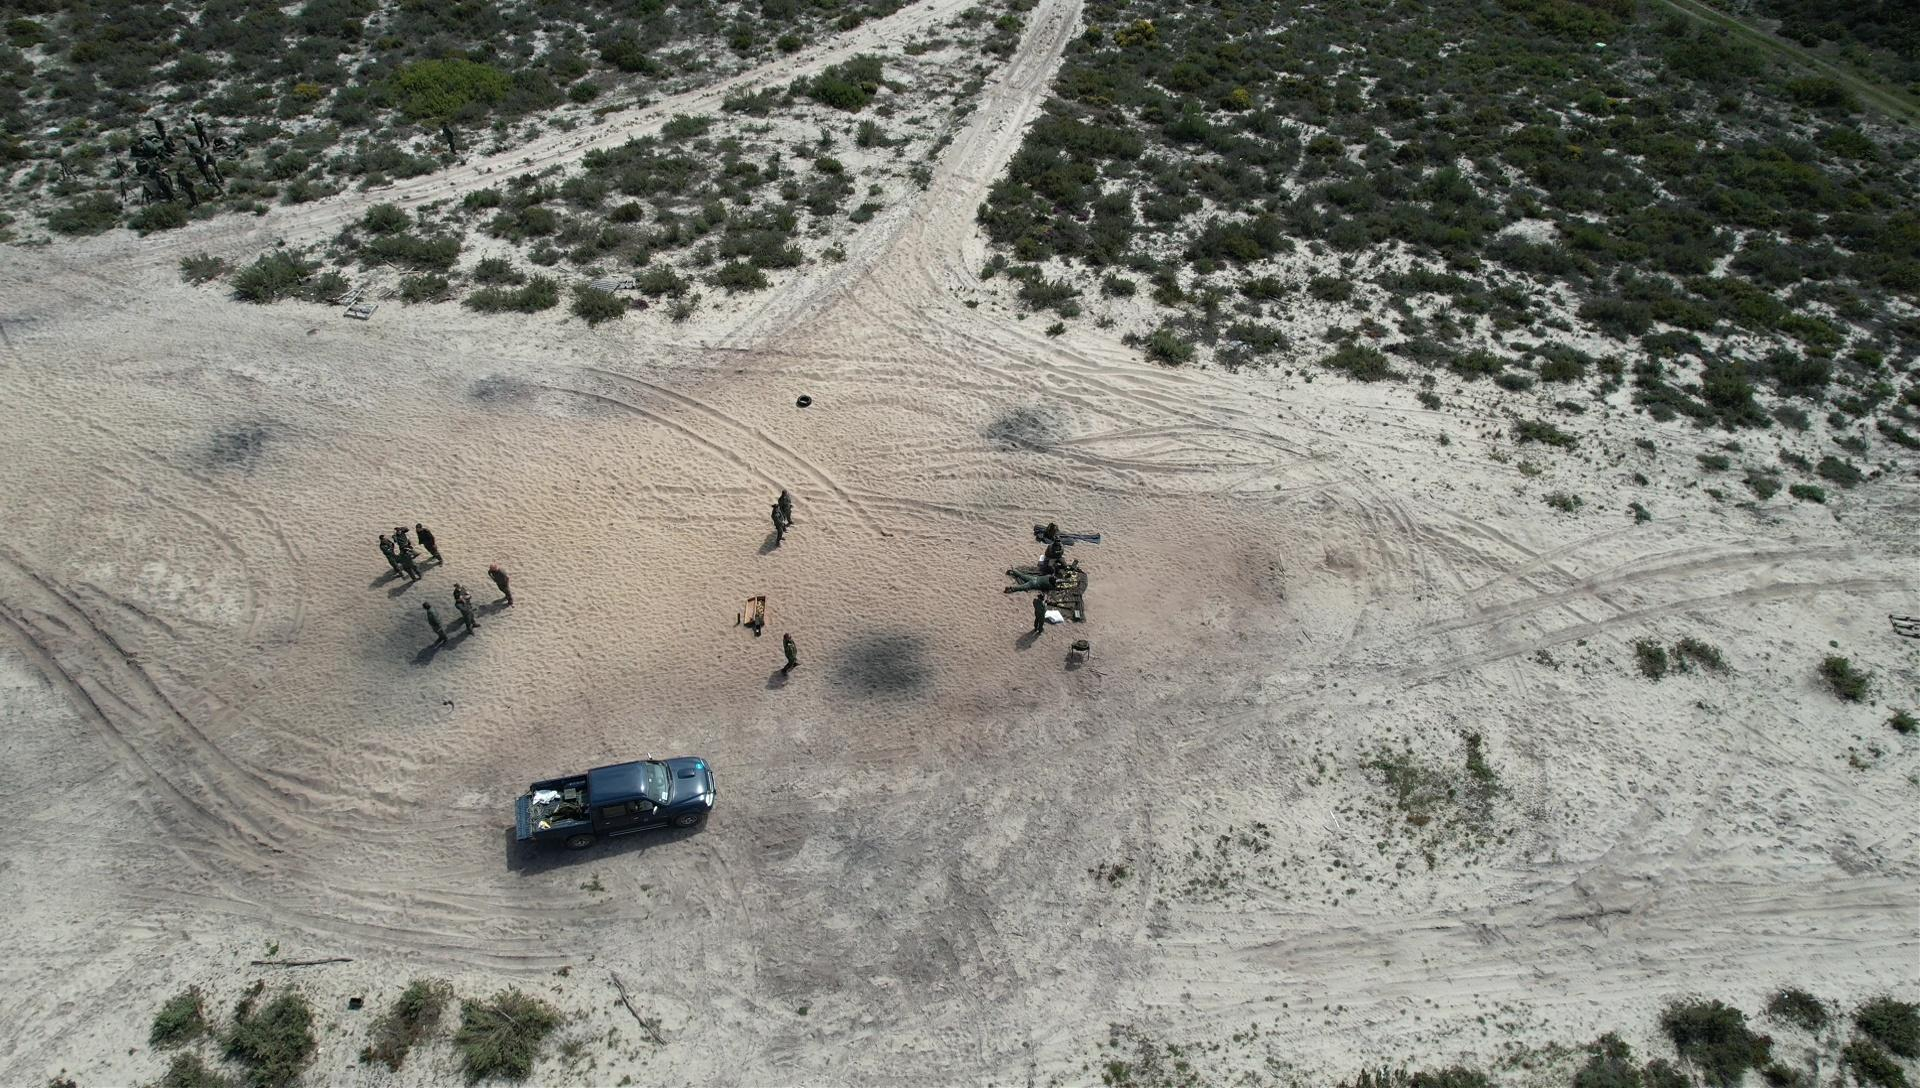Soldier: (1011, 560, 1073, 597), (413, 524, 448, 579), (775, 628, 804, 688), (484, 564, 518, 612), (419, 607, 448, 655), (392, 543, 422, 589), (386, 537, 415, 583), (1031, 596, 1056, 642), (1040, 545, 1069, 582), (148, 169, 177, 206), (771, 493, 791, 545), (439, 121, 464, 161), (455, 595, 477, 638), (175, 175, 198, 211), (775, 491, 793, 535), (138, 133, 164, 164), (193, 123, 220, 148), (162, 135, 179, 157)
